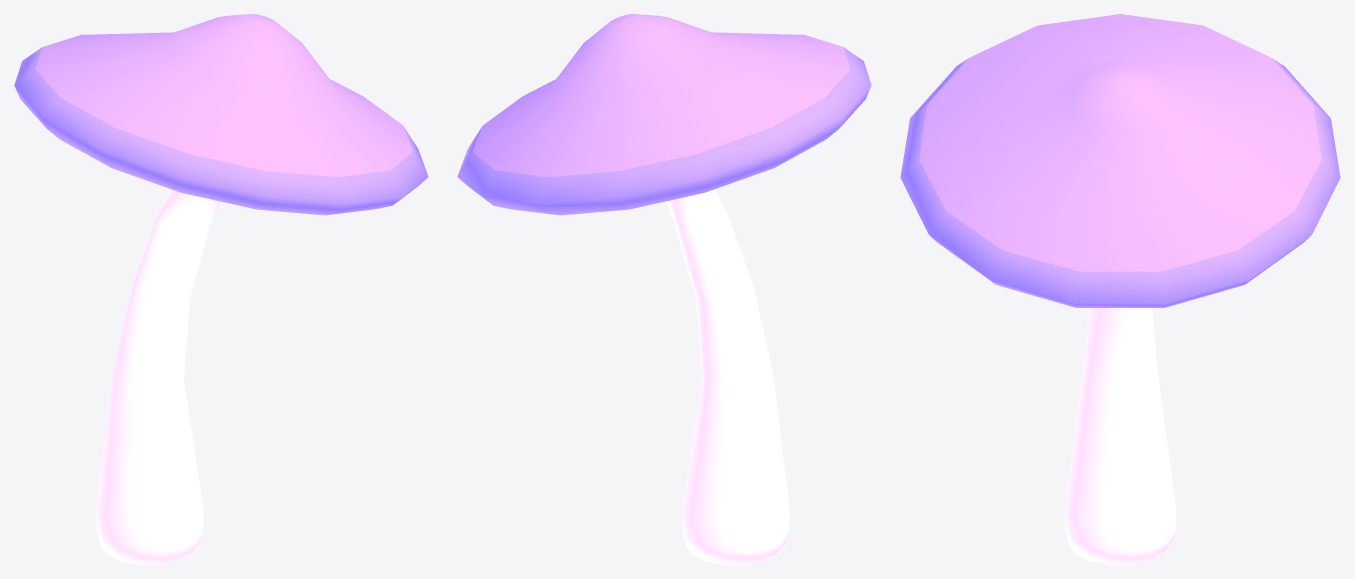
Rendered from cogumelo_G6.fbx.
3 renders of one model, left to right at view 1: azimuth 30°, elevation 25°; view 2: azimuth 150°, elevation 25°; view 3: azimuth 270°, elevation 25°, orthographic. The views are drawn at different scales.
Visible parts, largest first — view 1: cogu_G6; view 2: cogu_G6; view 3: cogu_G6.
Boxes of the visible parts, <box> form: cogu_G6: <box>14,14,428,564</box>; cogu_G6: <box>457,14,871,564</box>; cogu_G6: <box>900,14,1340,564</box>.
Size of the model in its own units: 1205 by 1254 by 1634.
